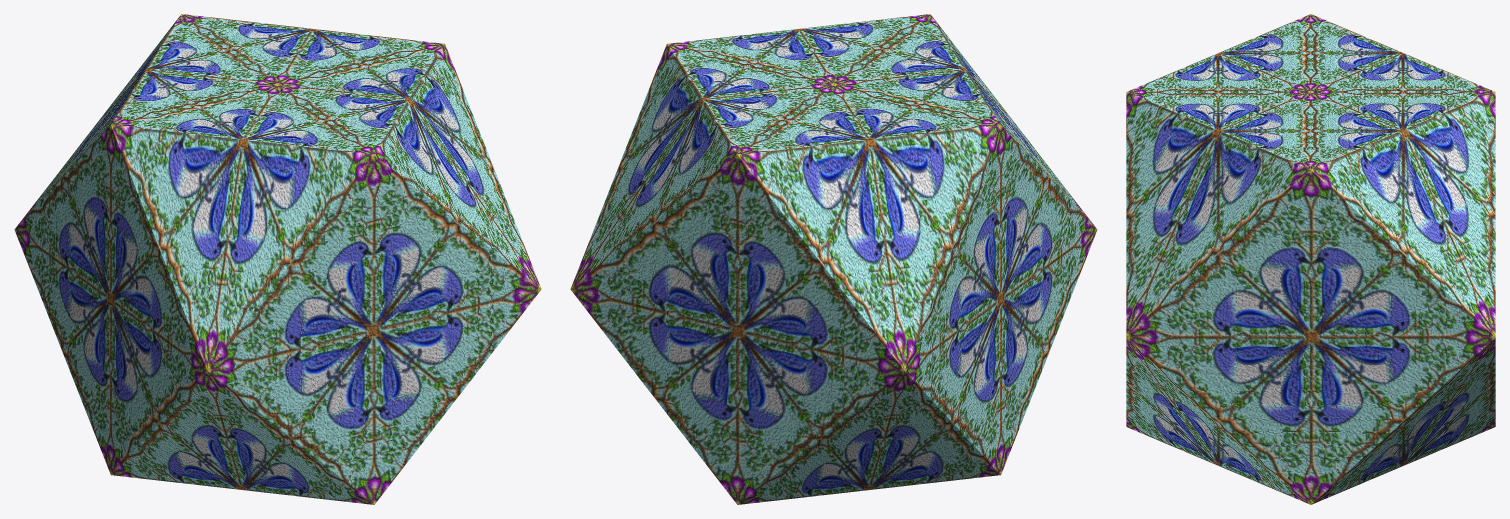
The model's file is Cuboctahedron.obj.
The picture shows the model from 3 angles, left to right: view 1: azimuth 30°, elevation 25°; view 2: azimuth 150°, elevation 25°; view 3: azimuth 270°, elevation 25°; orthographic projection. The views are drawn at different scales.
Size of the model in its own units: 1.41 by 1.41 by 1.41.
Materials: 1 (1 with a texture image).
